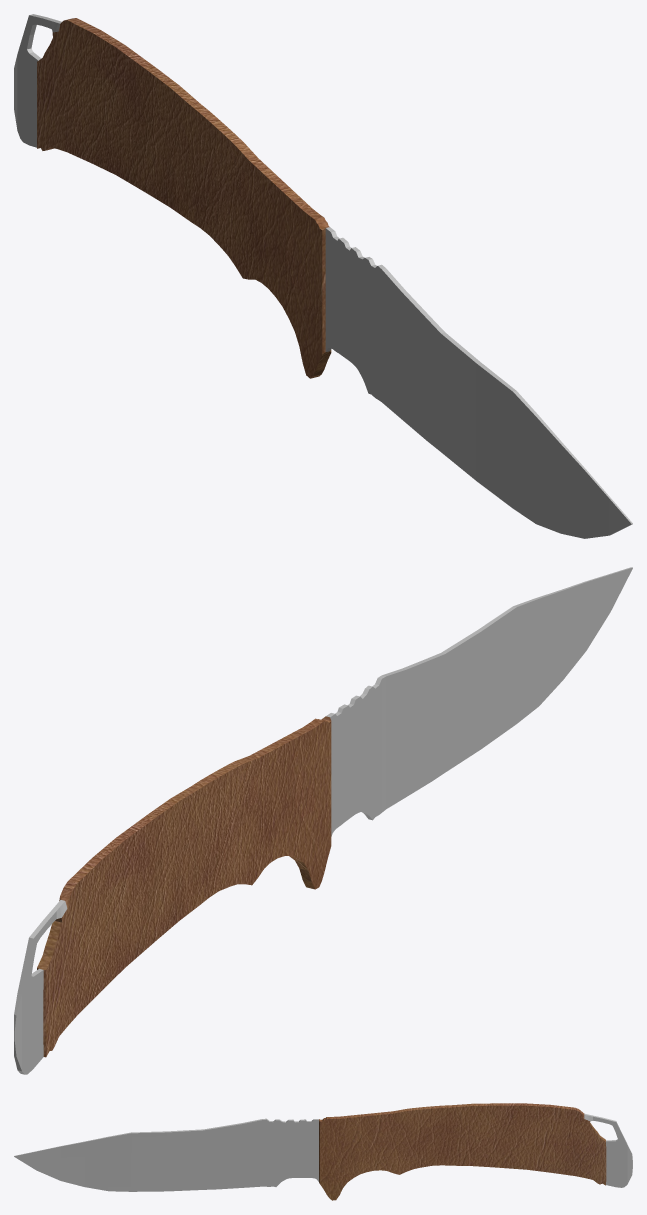
The model's file is knife.fbx.
3 renders of one model, top to bottom at view 1: azimuth 30°, elevation 25°; view 2: azimuth 150°, elevation 25°; view 3: azimuth 270°, elevation 25°, orthographic. The views are drawn at different scales.
Visible parts, largest first — view 1: Cube; view 2: Cube; view 3: Cube.
Part boxes in pixels (x1,y1,x2,y2): Cube: [14, 14, 632, 538]; Cube: [14, 567, 632, 1074]; Cube: [14, 1103, 632, 1200].
Bounding box in the file's own units: 0.269 × 5.21 × 30.83.
